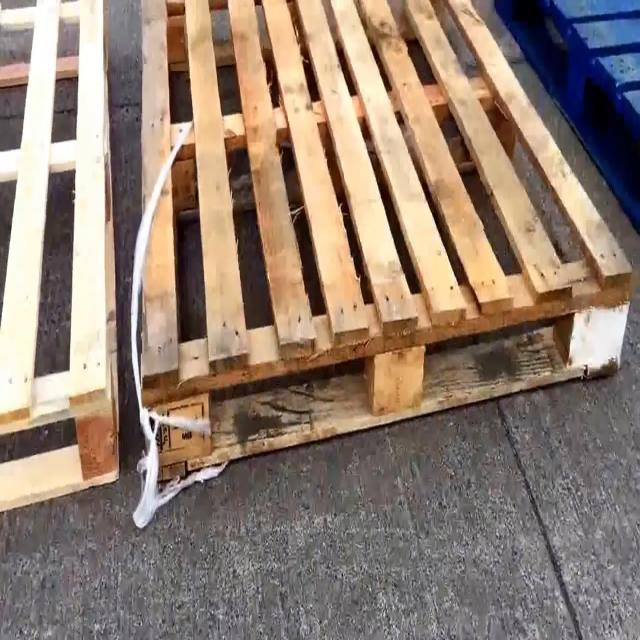Palette: (134, 0, 633, 490), (0, 0, 131, 516), (491, 0, 640, 241)
